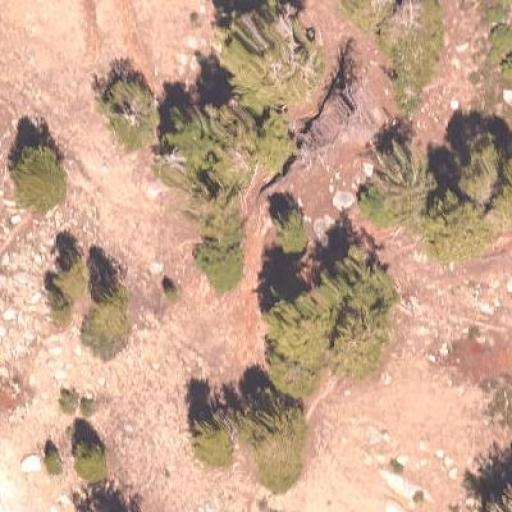tree-top: (258, 261, 390, 403), (159, 72, 279, 211), (212, 0, 332, 108), (221, 387, 324, 490), (426, 115, 511, 233), (350, 132, 432, 230), (415, 182, 498, 266), (90, 65, 162, 154), (0, 137, 73, 216), (184, 222, 247, 298), (74, 289, 142, 355), (187, 404, 245, 468), (264, 204, 318, 254), (64, 434, 114, 486), (41, 252, 93, 296)
